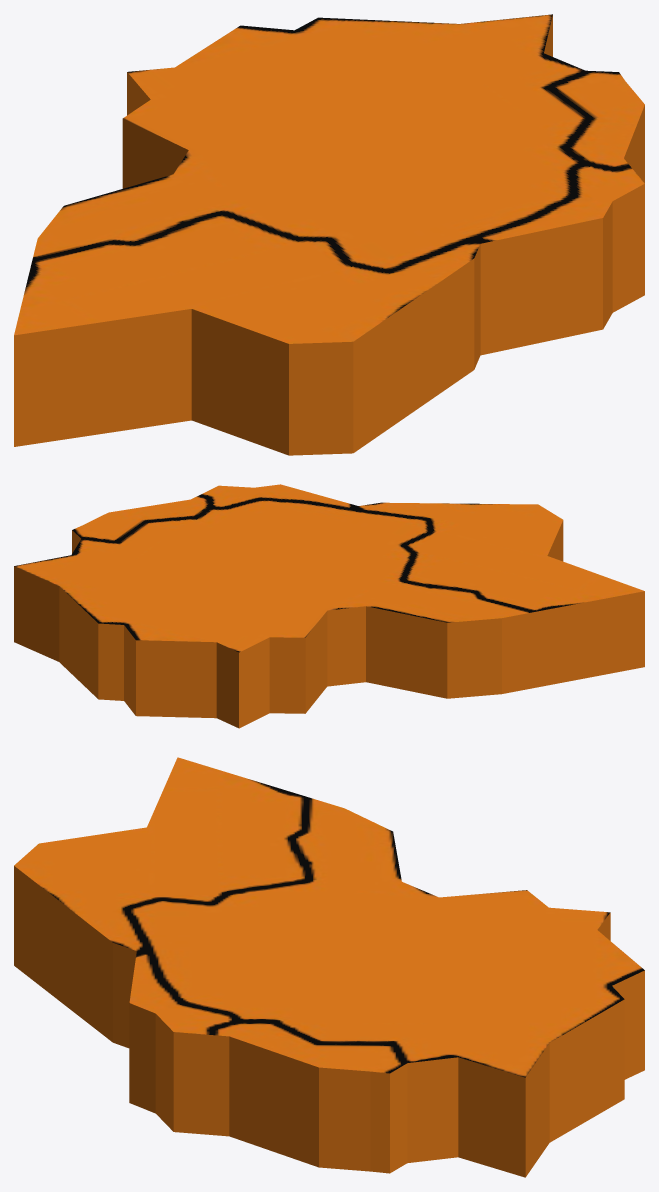
The model's file is Sudeste.fbx.
The picture shows the model from 3 angles, top to bottom: view 1: azimuth 30°, elevation 25°; view 2: azimuth 150°, elevation 25°; view 3: azimuth 270°, elevation 25°; orthographic projection. The views are drawn at different scales.
Parts seen in each view (by area): view 1: Sudeste; view 2: Sudeste; view 3: Sudeste.
Boxes of the visible parts, bbox=[...] form: Sudeste: bbox=[14, 14, 644, 455]; Sudeste: bbox=[14, 484, 644, 728]; Sudeste: bbox=[14, 757, 644, 1177].
Bounding box in the file's own units: 115 × 16.73 × 95.64.
Materials: 1 (1 with a texture image).
